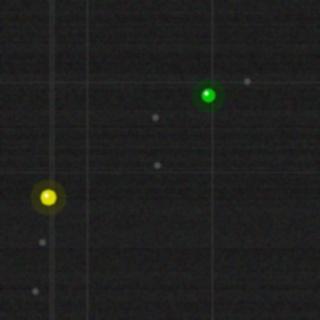green_normal: (199, 86, 217, 104)
yellow_warning: (38, 187, 58, 207)
